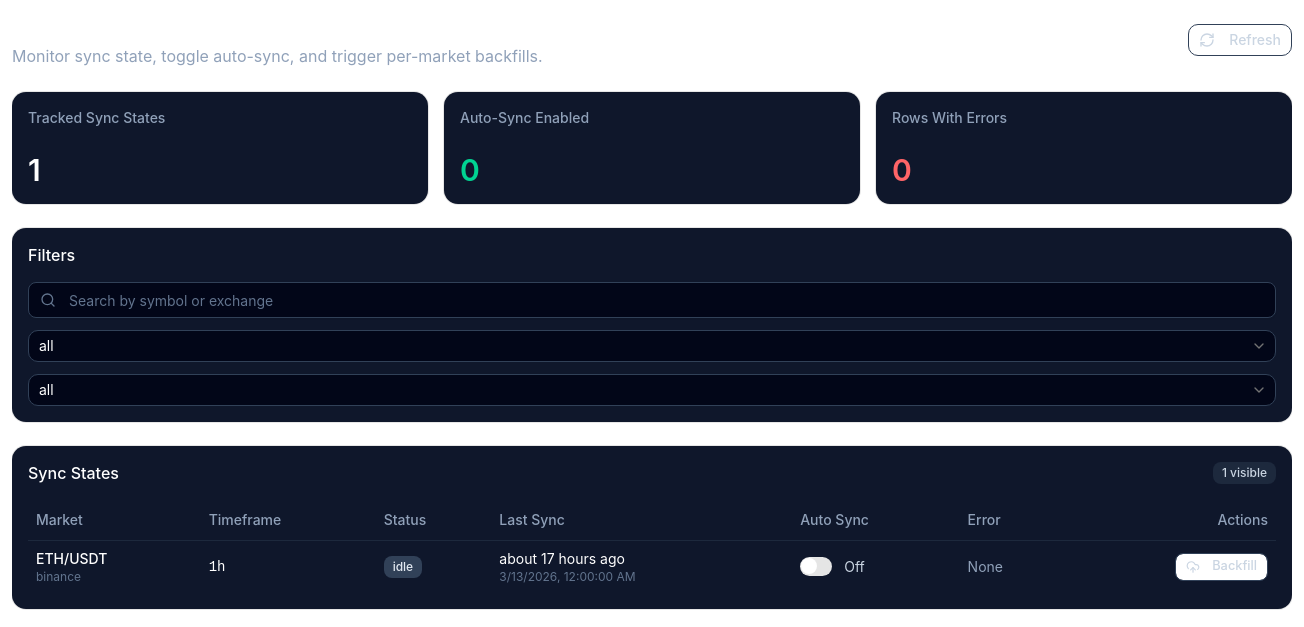
Test case: SyncPage › enables auto-sync from the row switch
Click the switch at (816, 566), box [800,557,832,576]
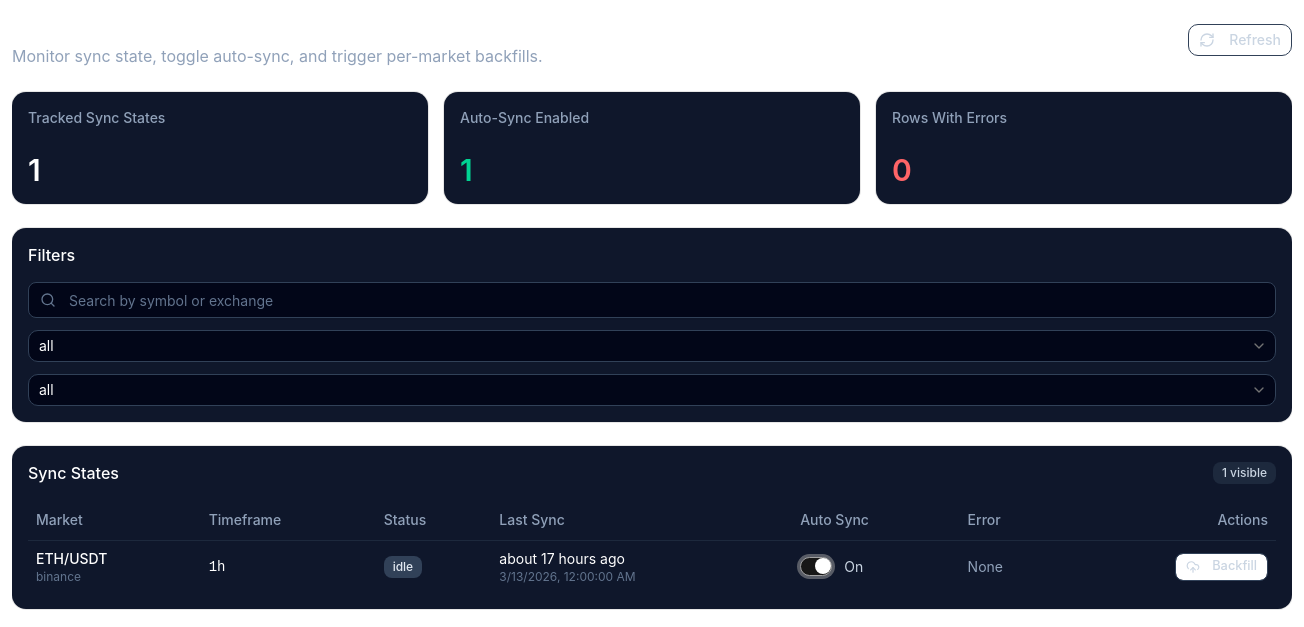
Expected: the text "On" is shown, [844,556,863,576]
